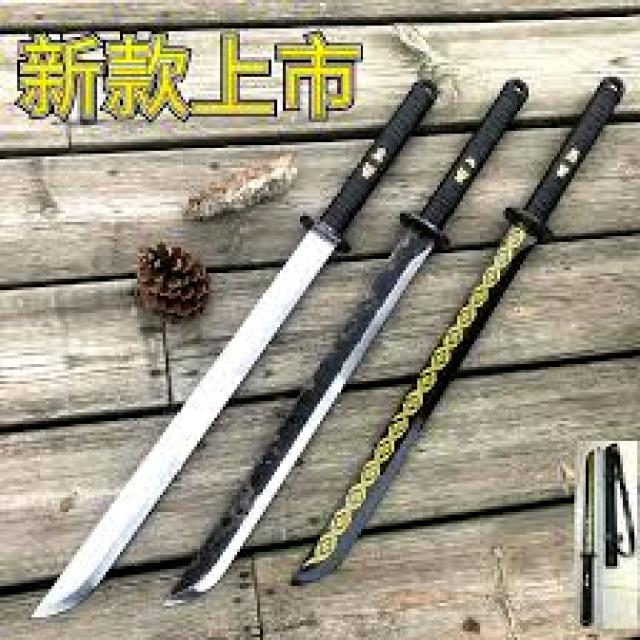long sword: (16, 72, 441, 618), (155, 69, 534, 614), (294, 65, 633, 586)
